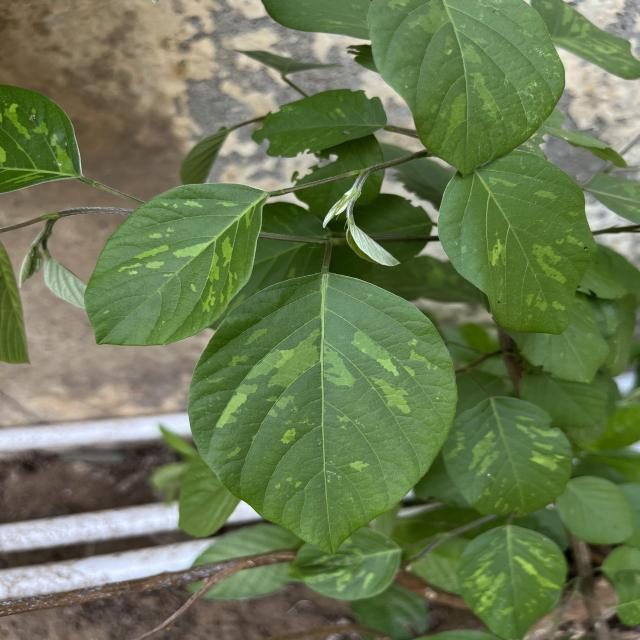Desmodium gangeticum: (183, 272, 461, 560), (364, 0, 569, 180), (82, 180, 272, 350)
